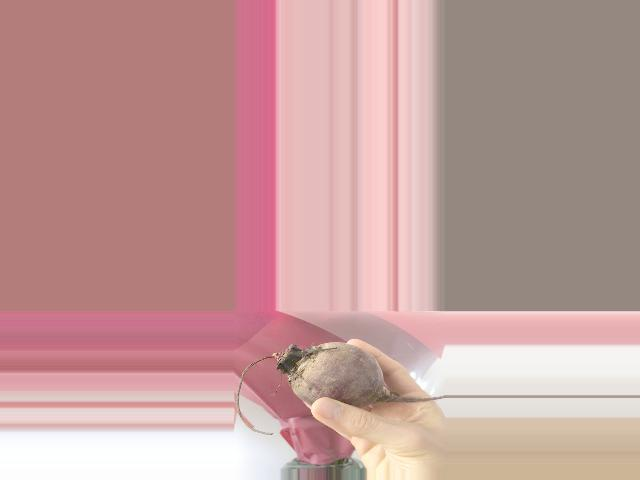beet: (235, 342, 444, 435)
